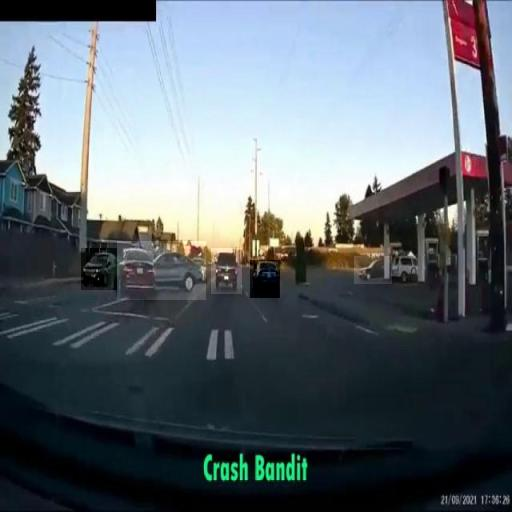小汽车: (82, 248, 118, 290), (211, 248, 242, 294), (250, 260, 280, 298), (354, 256, 392, 284)
小汽车撞小汽车: (117, 241, 206, 300)
